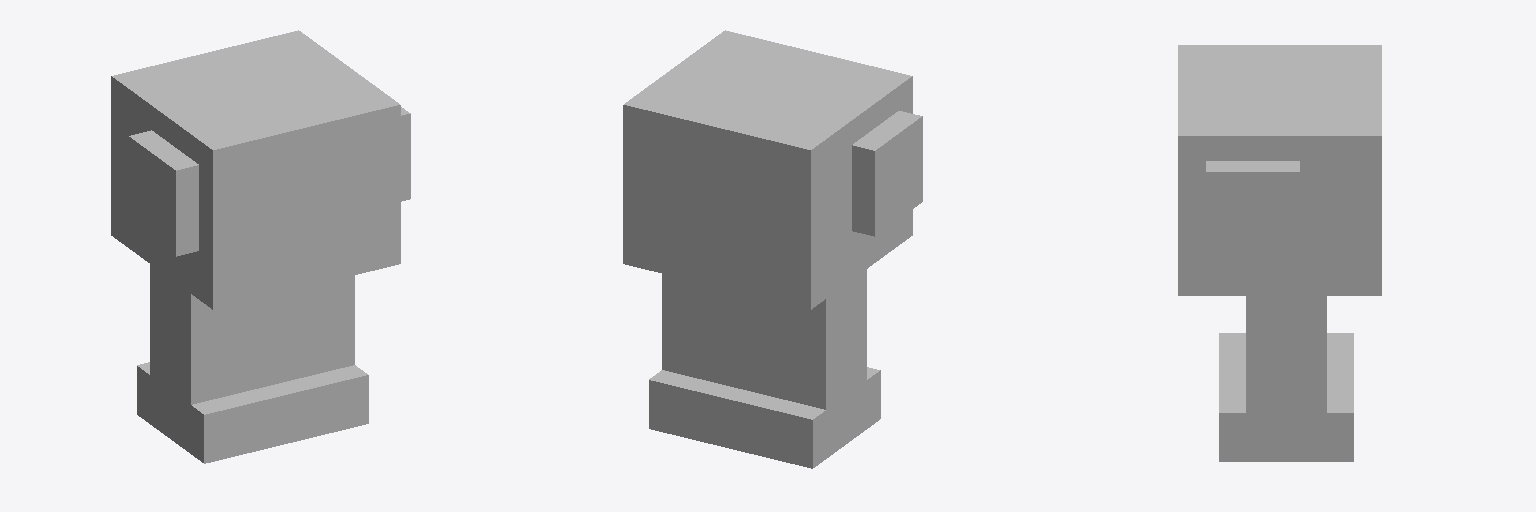
Rendered from body.obj.
3 views of the same model, side by side, from view 1: azimuth 30°, elevation 25°; view 2: azimuth 150°, elevation 25°; view 3: azimuth 270°, elevation 25° (orthographic).
Bounding box in the file's own units: 20 × 27 × 15.